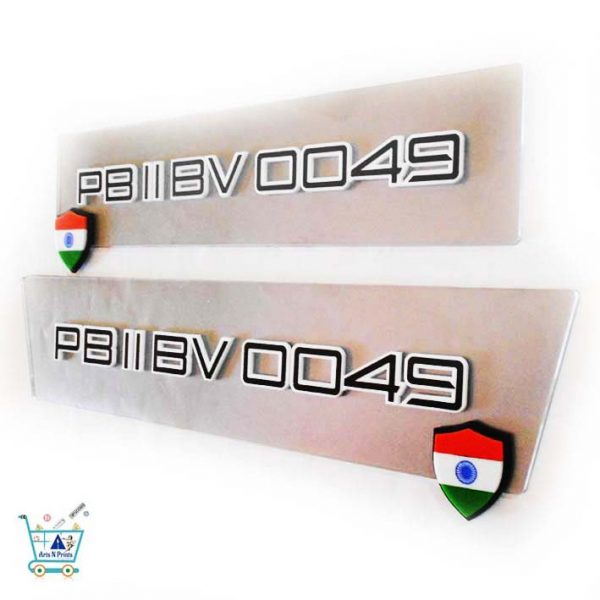number_plate: (22, 273, 575, 497)
